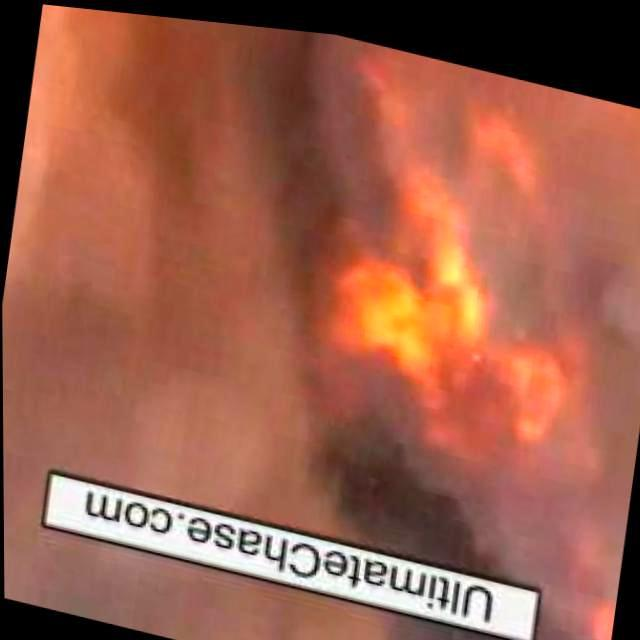fire: (259, 31, 616, 502), (566, 572, 618, 640)
